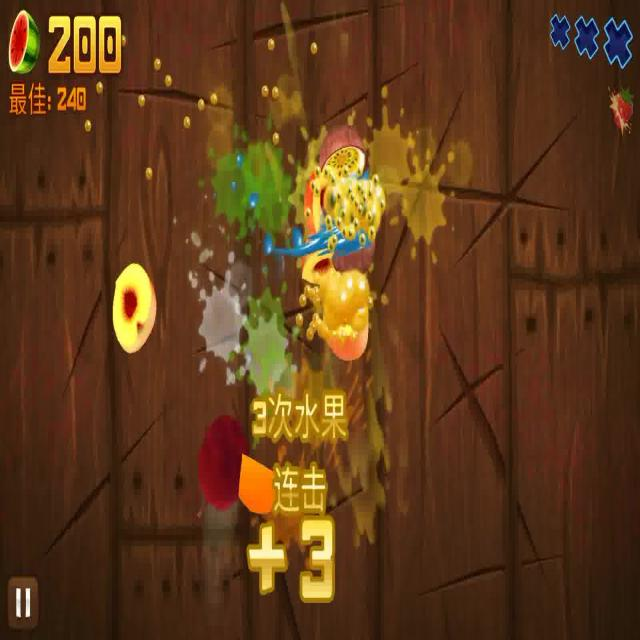fruit: (109, 261, 156, 351), (199, 419, 241, 515), (237, 450, 282, 523), (325, 294, 368, 358), (323, 125, 368, 182), (299, 166, 329, 238), (330, 236, 376, 276), (291, 247, 333, 285)
